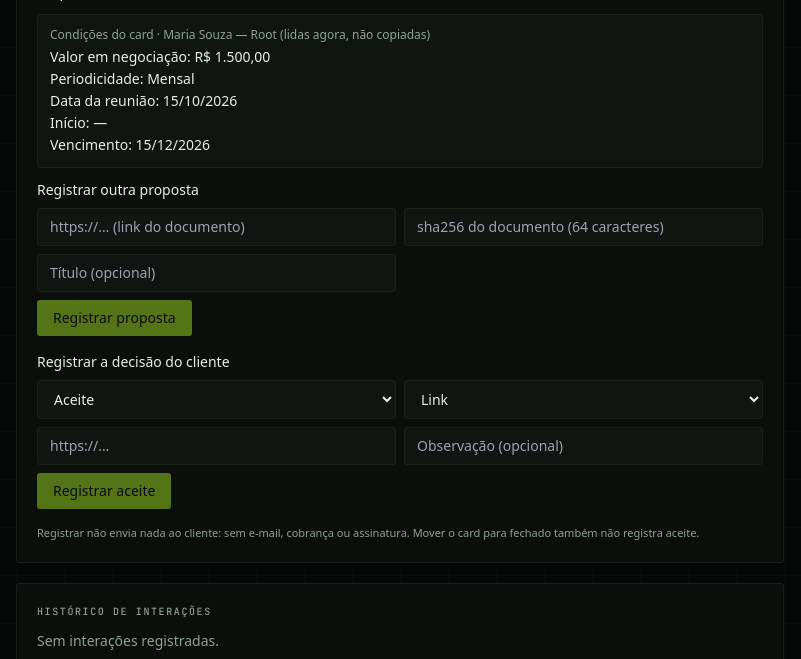
ROOT-49: Proposta e aceite na tela do lead › 409 (as condições mudaram): mostra a mensagem da API e relê as condições
(page scrolled)
Type "https://drive.exemplo/aceite" into the field named "Link da evidência".
click(216, 446); type("https://drive.exemplo/aceite")  # box [37,427,396,465]
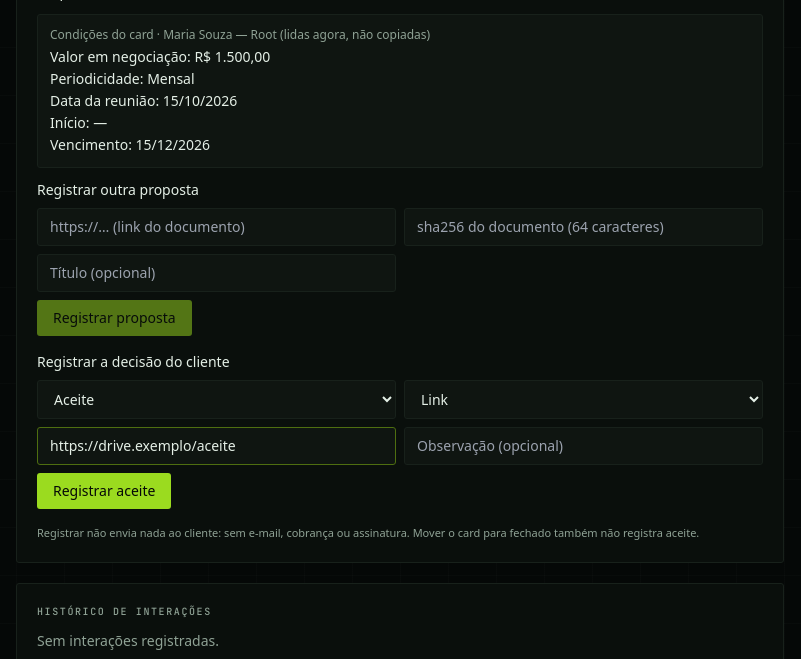
Click the button "Registrar aceite".
click(104, 491)  # box [37,473,171,509]
(page scrolled)
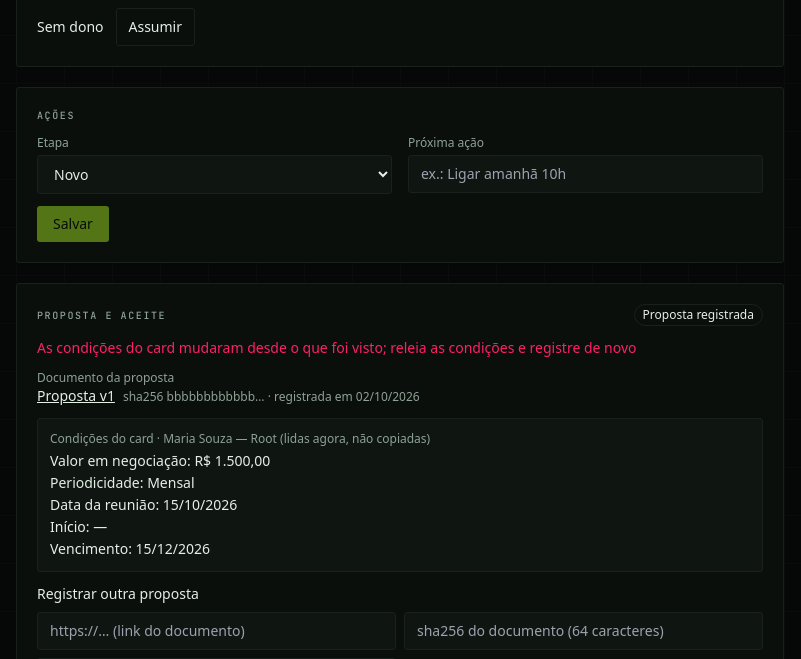
expect the message shows "As condições do card mudaram": met, box [37,338,636,357]
